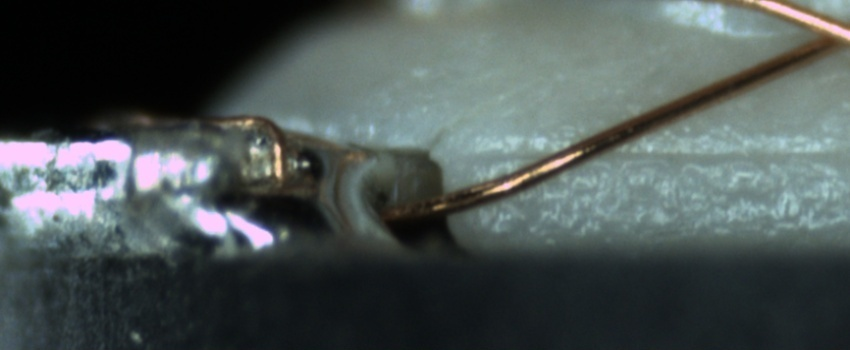CL: (776, 2, 849, 65)
DL: (473, 126, 849, 187)
TE: (98, 107, 293, 189)
